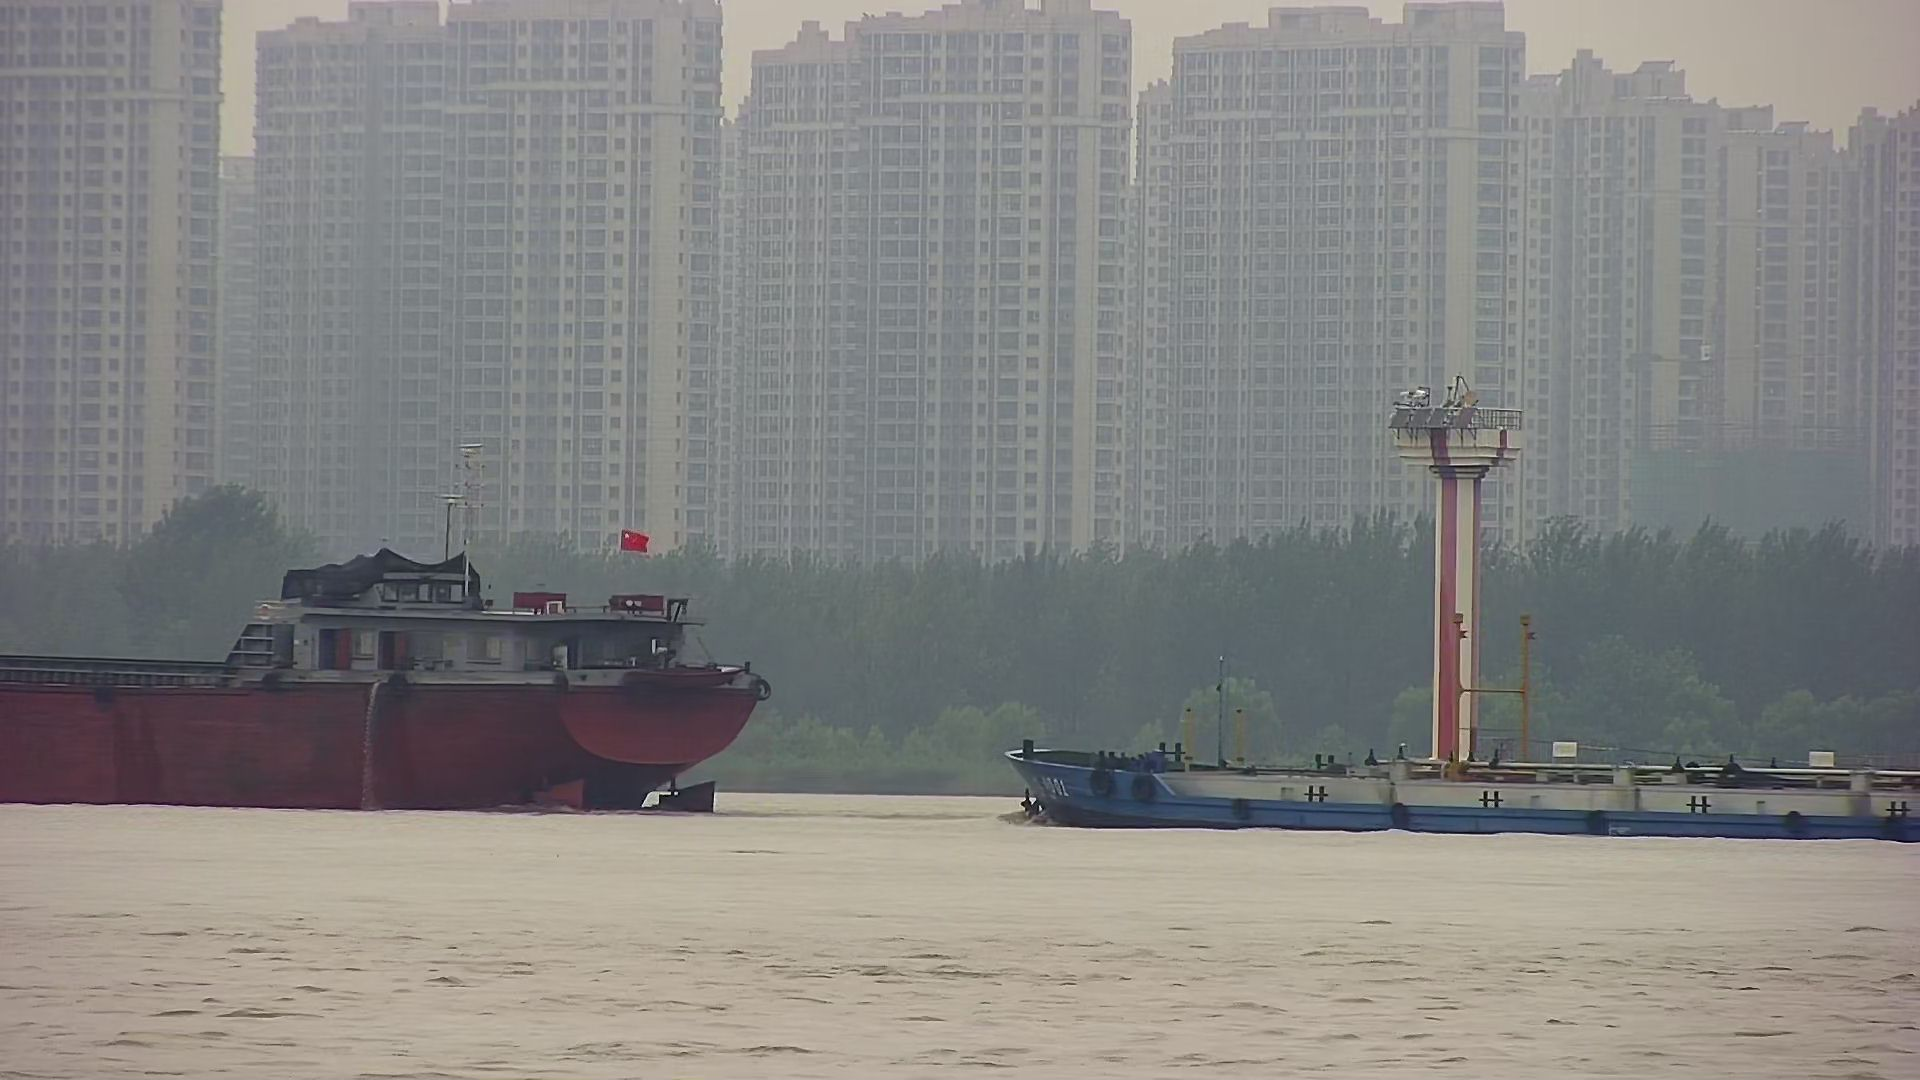platform: (1393, 377, 1531, 820)
ship: (1, 473, 769, 823), (1005, 609, 1920, 847)
